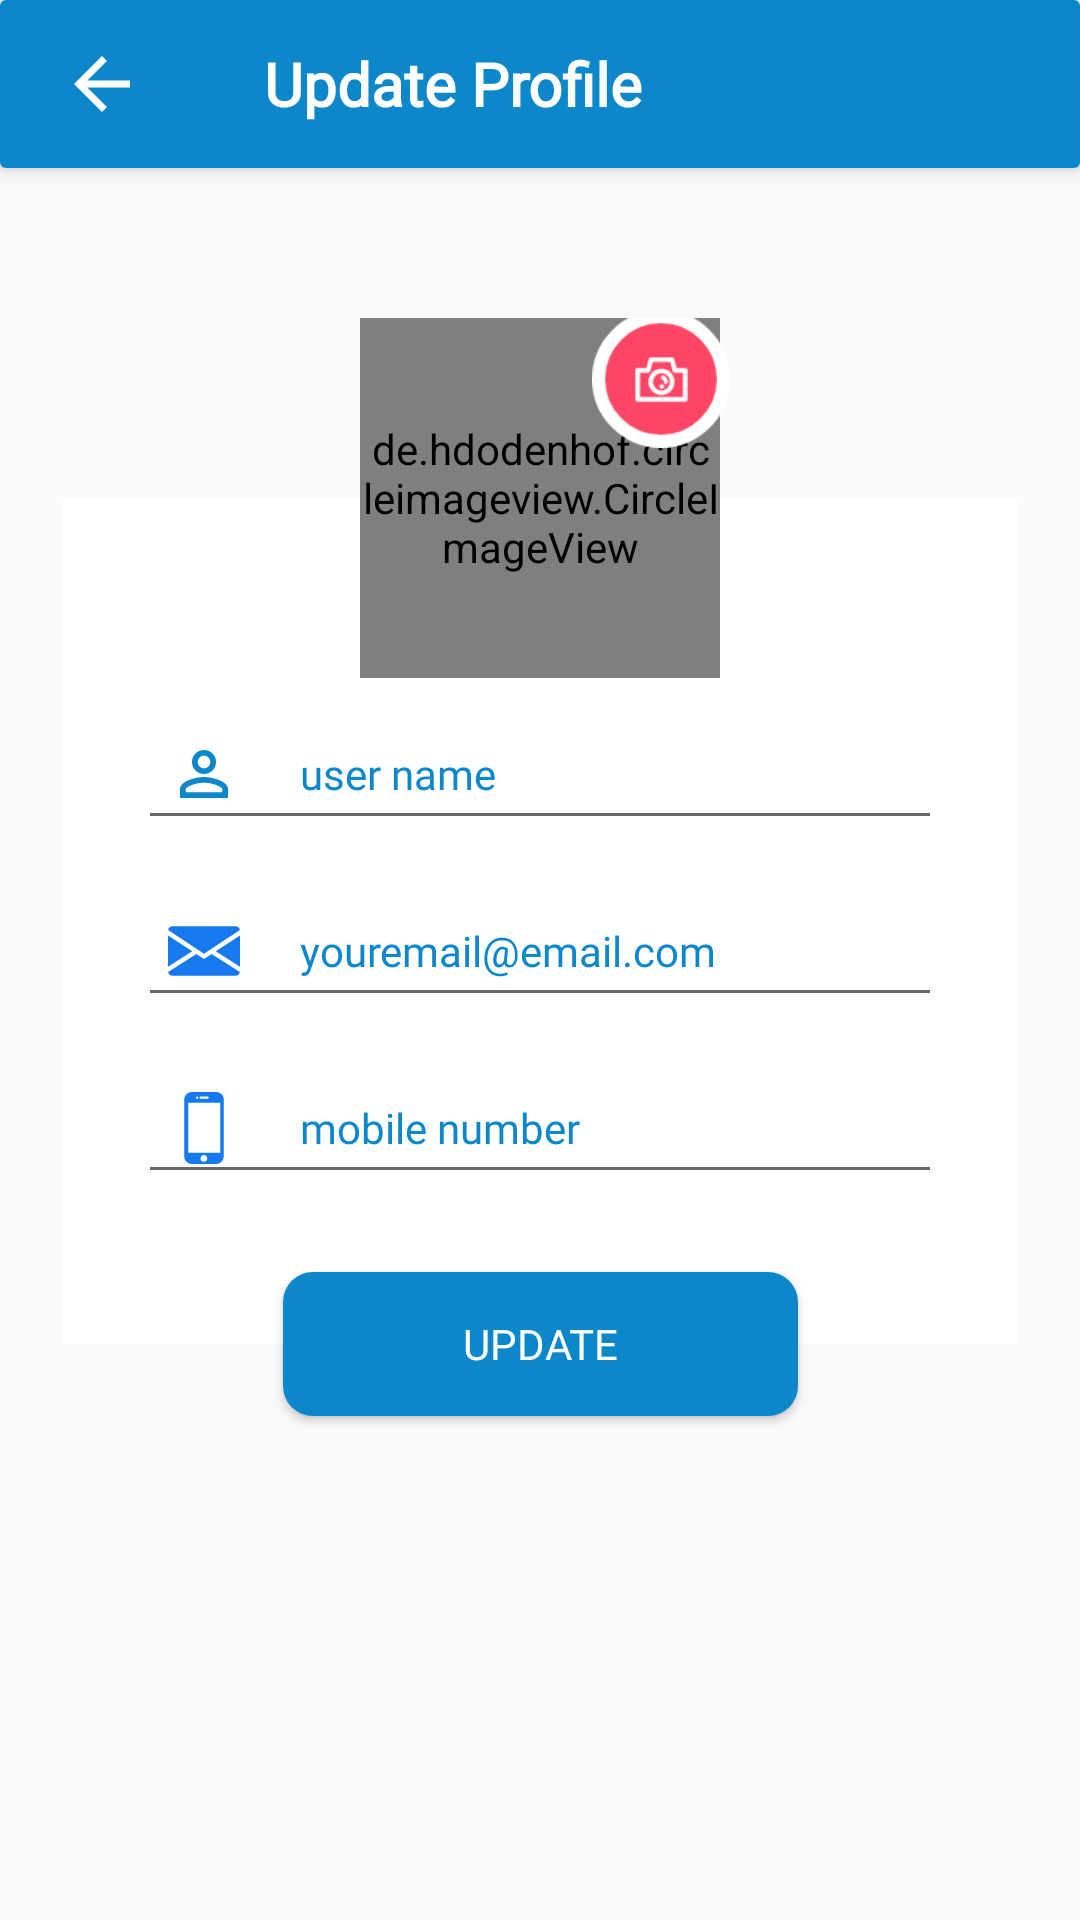

Point at icon controls on the screen. Image size 1080px×1920px, points as (x,y).
arrow back: (102,84)
cameraforchange: (661,383)
